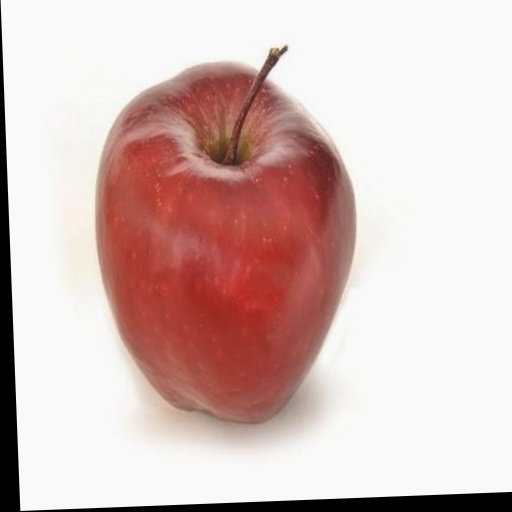fruit: (96, 48, 354, 421)
